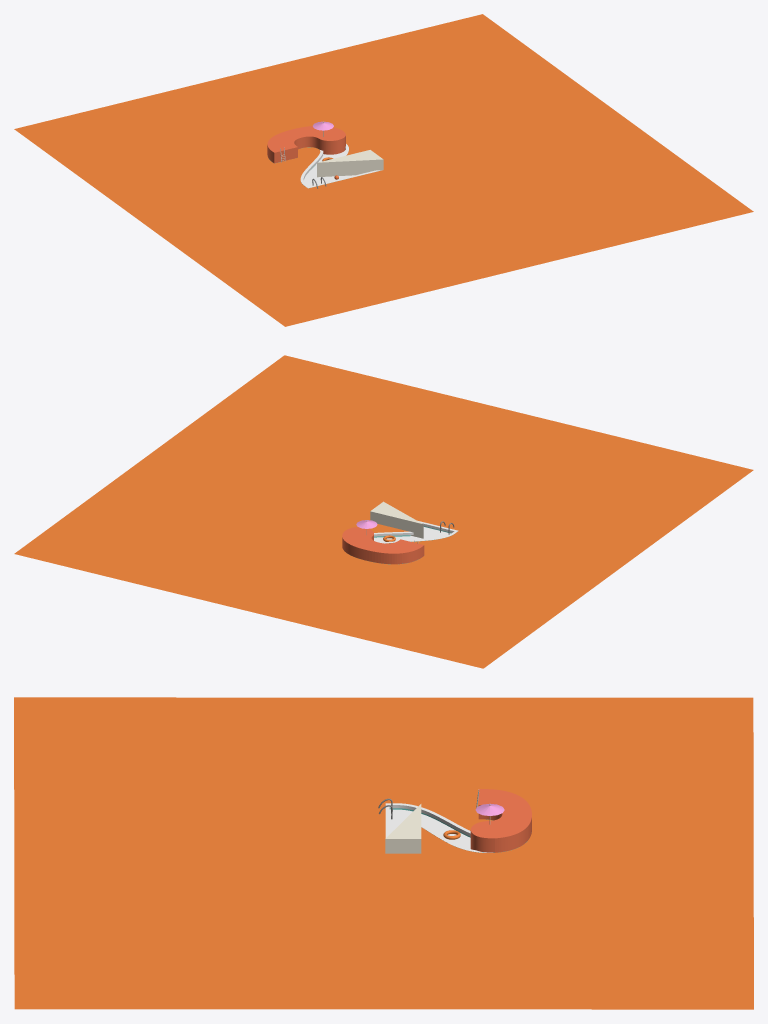
The model's file is pool.glb.
The picture shows the model from 3 angles, top to bottom: view 1: azimuth 30°, elevation 25°; view 2: azimuth 150°, elevation 25°; view 3: azimuth 270°, elevation 25°; orthographic projection. The views are drawn at different scales.
Parts seen in each view (by area): view 1: ground plane, orange platform, wedge; view 2: ground plane, orange platform, wedge, 2 pool; view 3: ground plane, orange platform, wedge, 2 pool, water surface.
Part boxes in pixels (<box>): ground plane: <box>14,14,753,326</box>; orange platform: <box>267,126,345,163</box>; wedge: <box>317,150,383,177</box>; ground plane: <box>14,355,753,668</box>; orange platform: <box>342,527,424,564</box>; wedge: <box>370,501,423,538</box>; 2 pool: <box>350,520,458,564</box>; ground plane: <box>14,697,753,1009</box>; orange platform: <box>470,789,531,852</box>; wedge: <box>385,804,421,853</box>; 2 pool: <box>385,803,527,852</box>; water surface: <box>389,809,470,849</box>.
Size of the model in its own units: 15.61 by 1.41 by 15.61.
